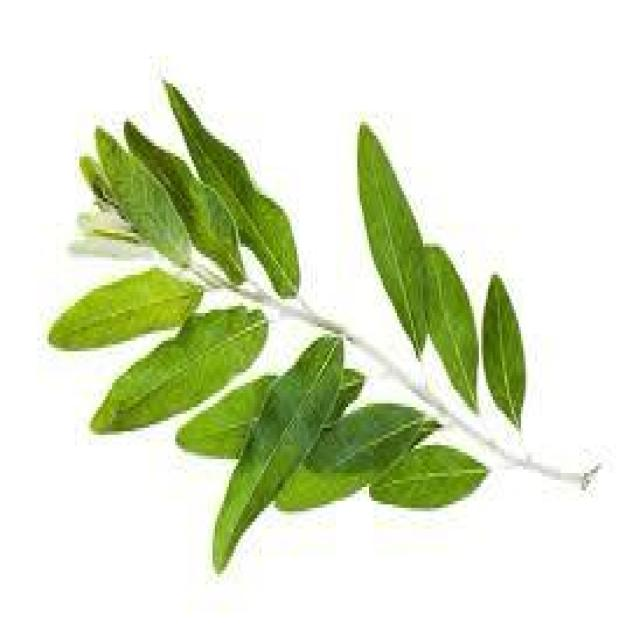Healthy: (213, 337, 341, 567), (93, 306, 266, 428), (357, 125, 427, 355), (49, 268, 201, 344), (423, 243, 476, 407), (369, 445, 486, 508), (480, 275, 524, 428)
